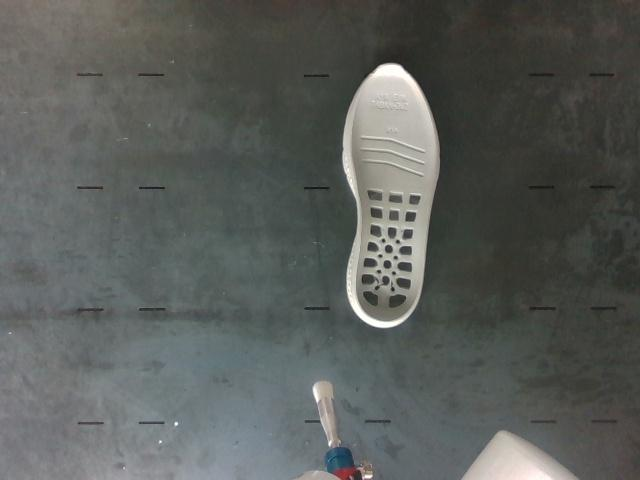shoes: (351, 65, 438, 321)
